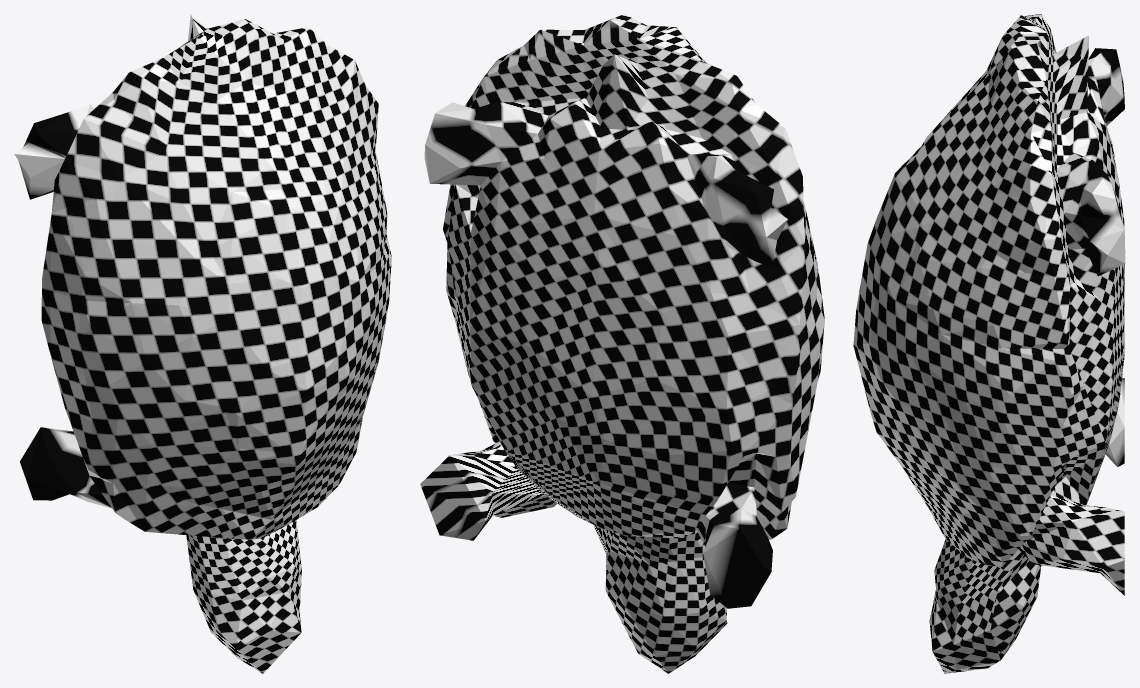
Rendered from turtle.obj.
3 renders of one model, left to right at view 1: azimuth 30°, elevation 25°; view 2: azimuth 150°, elevation 25°; view 3: azimuth 270°, elevation 25°, orthographic. The views are drawn at different scales.
Size of the model in its own units: 40.38 by 70.55 by 26.98.
